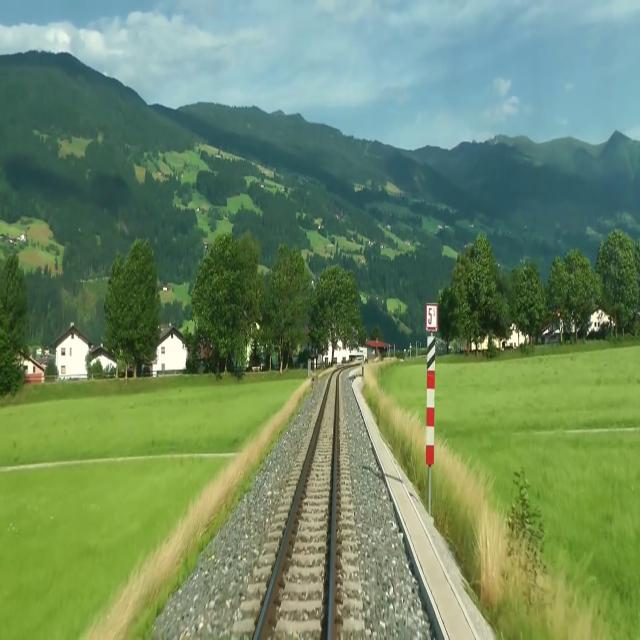rail-track: (258, 373, 336, 639)
